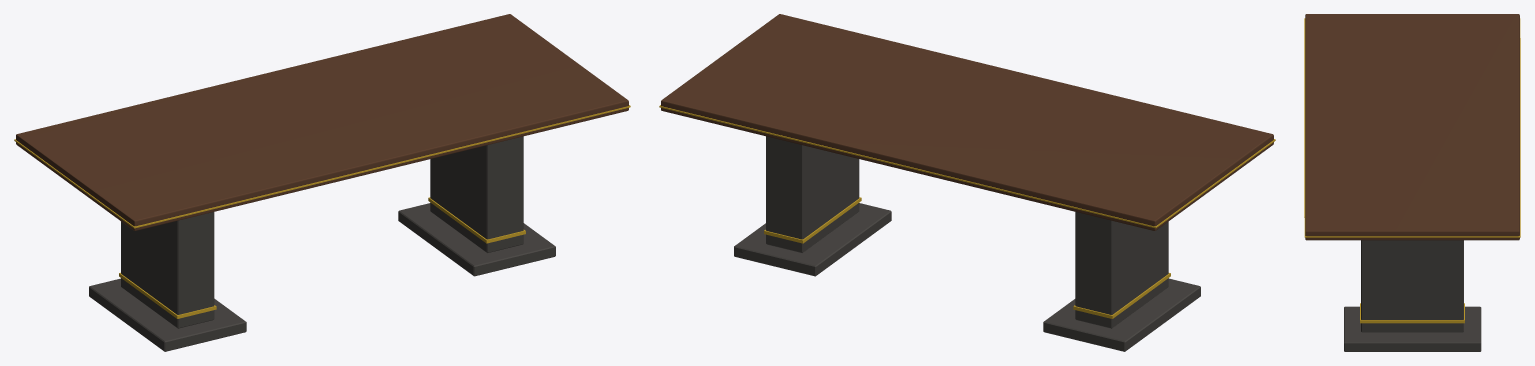
The model's file is prop_table_dining.glb.
3 renders of one model, left to right at view 1: azimuth 30°, elevation 25°; view 2: azimuth 150°, elevation 25°; view 3: azimuth 270°, elevation 25°, orthographic. The views are drawn at different scales.
Parts seen in each view (by area): view 1: Table; view 2: Table; view 3: Table.
Part boxes in pixels (x1,y1,x2,y2): Table: (14,14,630,351); Table: (659,14,1275,351); Table: (1304,14,1520,351).
Size of what is drawn, in the model's own units: 2.41 by 0.74 by 1.01.
